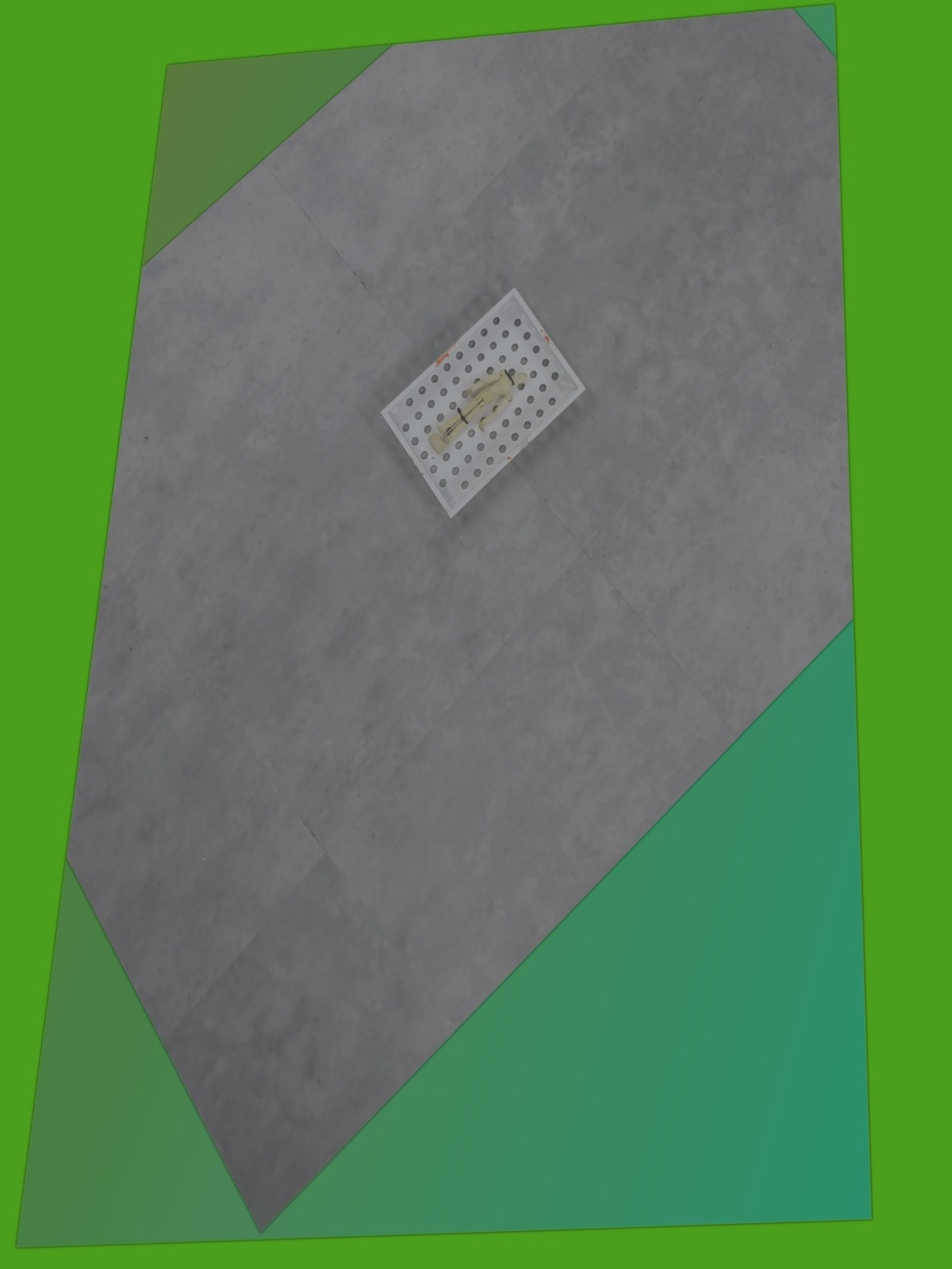basket: (377, 286, 591, 521)
mannequin: (425, 366, 532, 458)
